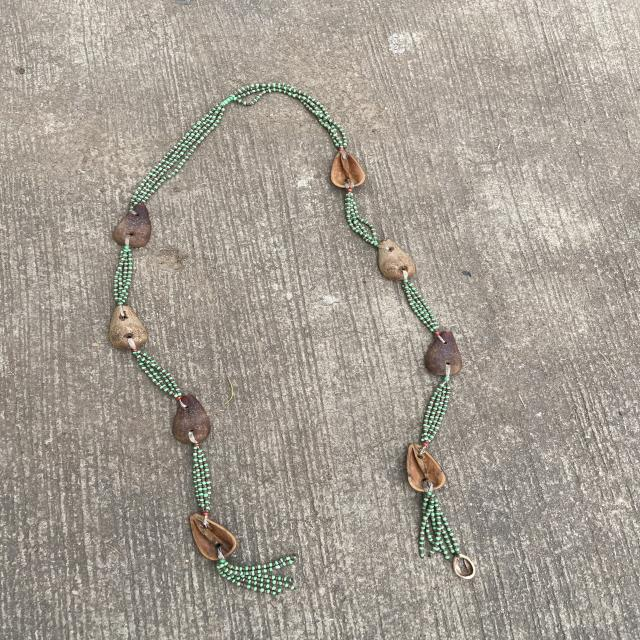facedown: (422, 326, 470, 381), (169, 391, 213, 448), (109, 198, 157, 250), (107, 301, 150, 355), (372, 236, 419, 284)
faceup: (184, 510, 241, 566), (400, 440, 448, 498), (324, 144, 369, 194)
